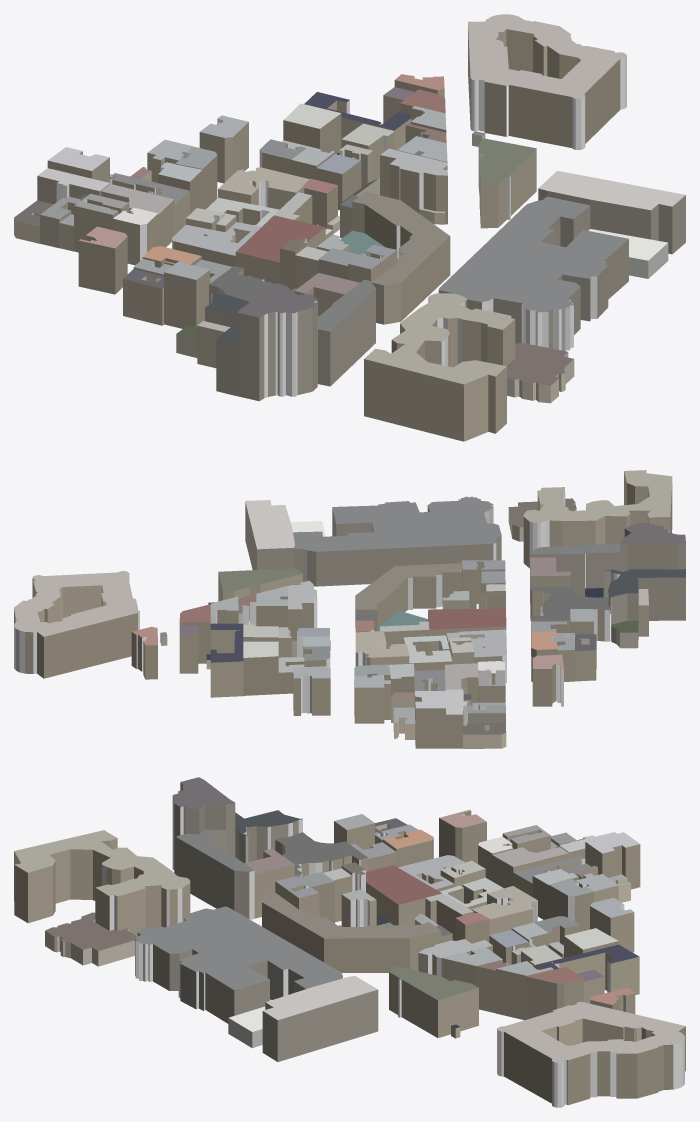
The picture shows the model from 3 angles, top to bottom: view 1: azimuth 30°, elevation 25°; view 2: azimuth 150°, elevation 25°; view 3: azimuth 270°, elevation 25°; orthographic projection. The views are drawn at different scales.
Visible parts, largest first — view 1: tuile; view 2: tuile; view 3: tuile.
Part boxes in pixels (x1,y1,x2,y2): tuile: (14, 14, 685, 441); tuile: (14, 470, 685, 748); tuile: (14, 777, 685, 1107).
Size of the model in its own units: 264 by 36.31 by 290.
